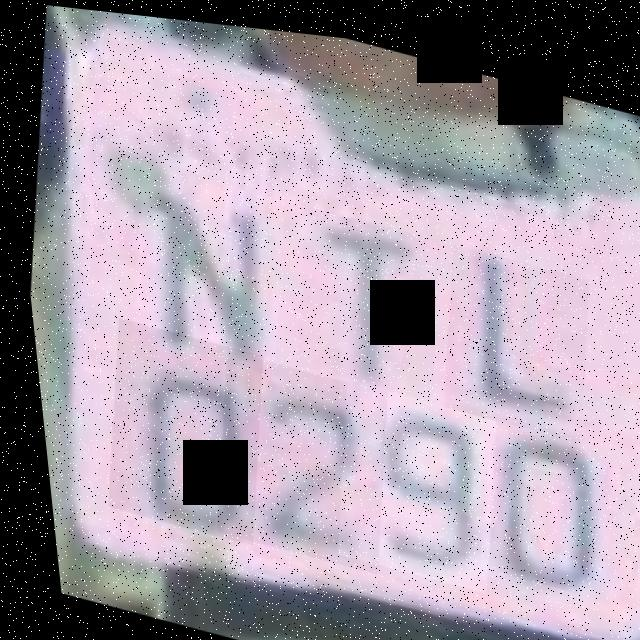0: (82, 313, 272, 544), (426, 400, 623, 621)
2: (191, 343, 395, 570)
9: (312, 371, 503, 588)
J: (423, 232, 598, 433)
N: (113, 149, 296, 364)
T: (276, 196, 450, 394)
